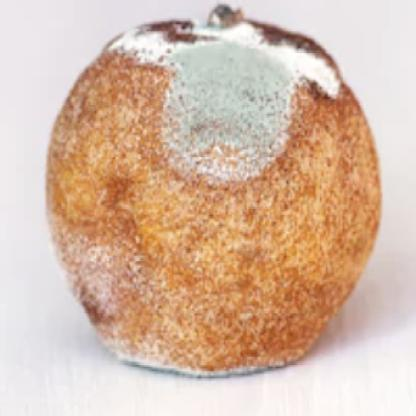rotten: (44, 19, 379, 381)
